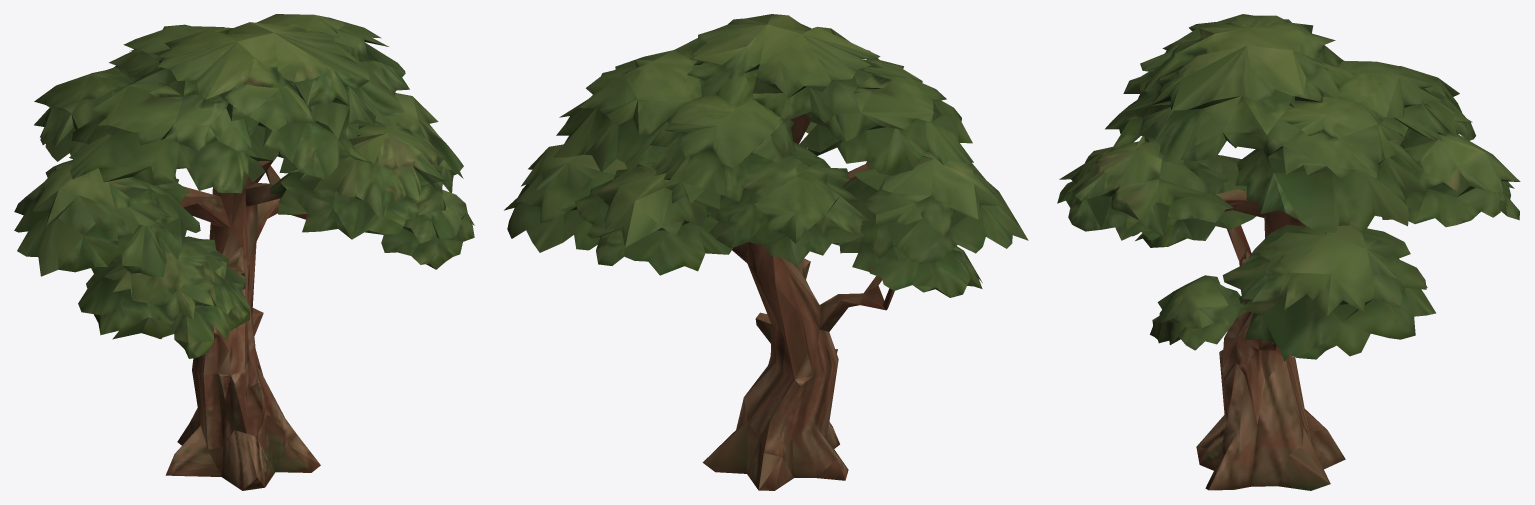
3 views of the same model, side by side, from view 1: azimuth 30°, elevation 25°; view 2: azimuth 150°, elevation 25°; view 3: azimuth 270°, elevation 25° (orthographic). The views are drawn at different scales.
Parts seen in each view (by area): view 1: pine; view 2: pine; view 3: pine.
Boxes of the visible parts, box(x1,y1,x2,y2) form: pine: box(14, 14, 474, 490); pine: box(504, 14, 1028, 490); pine: box(1057, 14, 1520, 490).
Size of the model in its own units: 0.9759 by 0.8566 by 0.826.
1 material, 1 textured.
